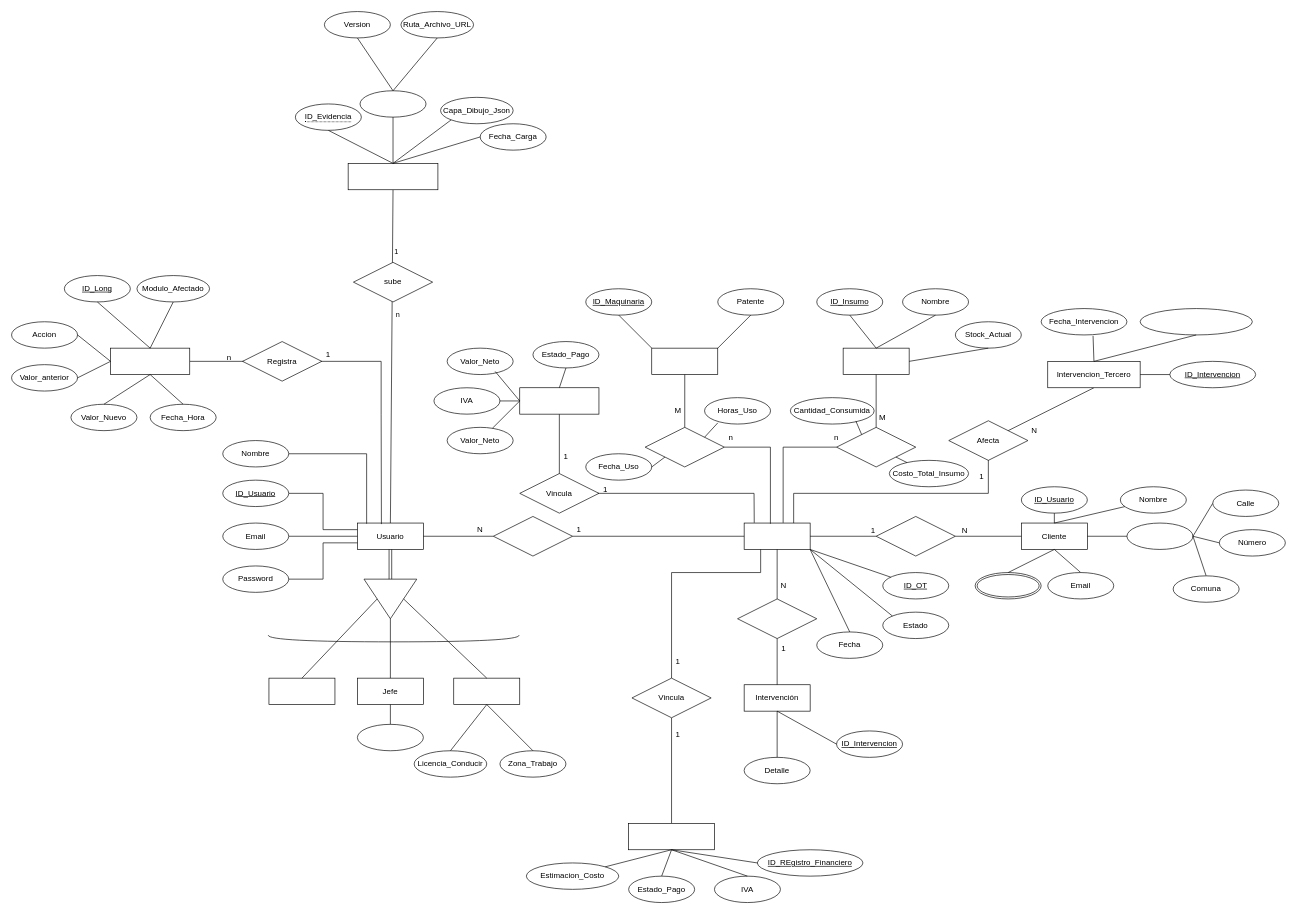
Image size: 1297x914. Some labels were removed from this diagram. The box of each missing label's shape, as (x1, y1, x2, y2) in pixels:
Administrador: (268, 677, 335, 705)
Bitacora_Auditoria: (110, 347, 190, 375)
Consume: (836, 427, 916, 467)
Descripcion_daño_Tarea: (1139, 308, 1252, 335)
Direccion: (1126, 522, 1193, 549)
Ejecuta: (493, 516, 573, 556)
Evidencia_Multimedia: (347, 163, 438, 190)
Genera: (737, 598, 817, 639)
Insumo: (842, 347, 909, 375)
Maquinaria: (651, 347, 718, 375)
Operador: (453, 677, 520, 705)
Orden_Trabajo: (743, 522, 810, 549)
Registo_Financiero: (519, 387, 599, 414)
Registro_Financiero: (628, 823, 714, 850)
Solicita: (875, 516, 955, 556)
Telefono: (974, 572, 1041, 599)
Tipo_Archivo: (359, 90, 426, 117)
Utiliza: (644, 427, 724, 467)
Área_Cargo: (357, 724, 423, 751)
